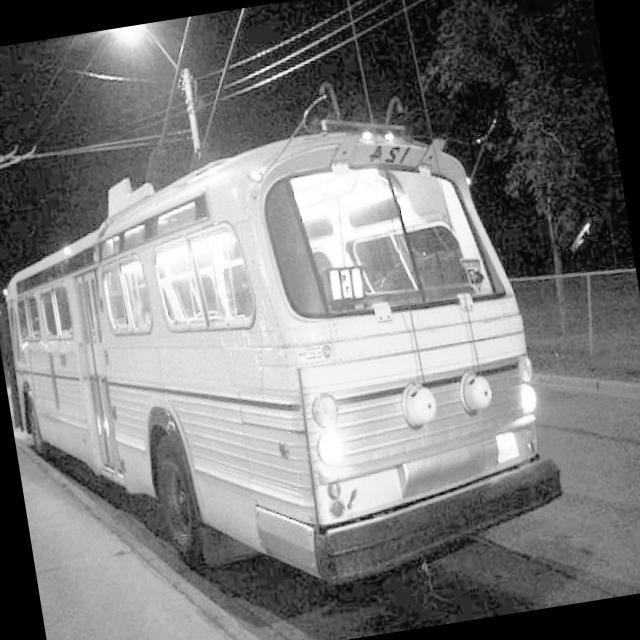Bus: (0, 98, 563, 608)
